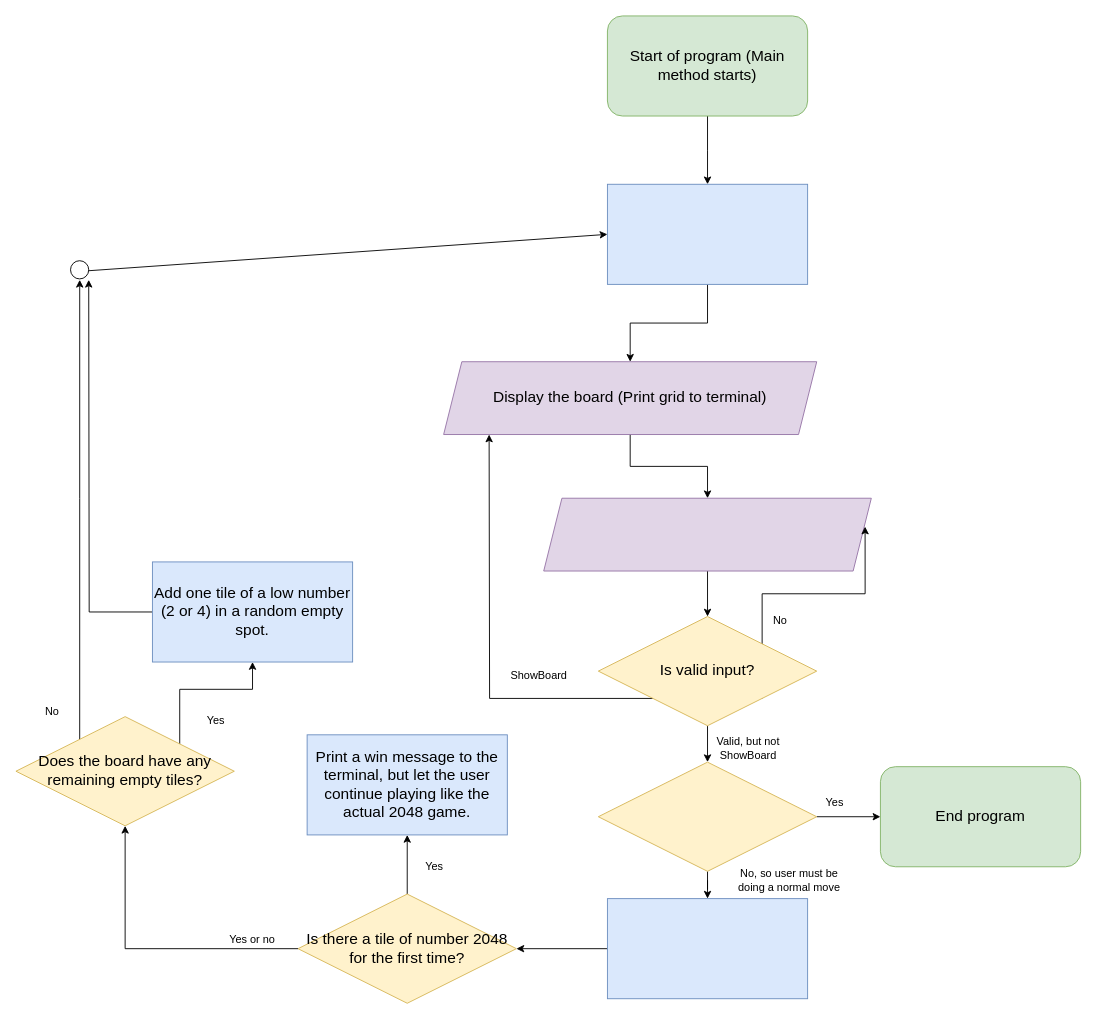
Some shapes in this 1097 by 1019 pixel diagram are drawn without their labels. The centre of each missing label's shape, as x and y in pixels:
Did the player ask to quit?: point 707,816
Initialize an empty 4x4 grid of tiles and add 2 tiles in random spots: point 707,233
Prompt player for their move (Left/Right/Up/Down/Quit/ShowBoard): point 707,534
Slide all tiles across the grid in the specified direction: point 707,948
